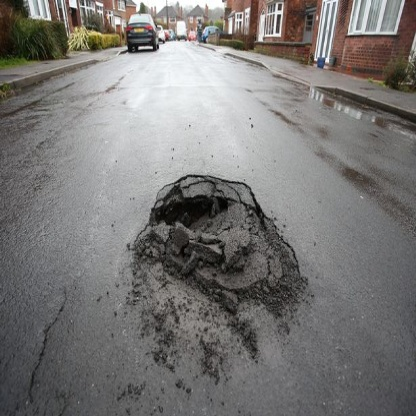pothole: (137, 165, 308, 340)
